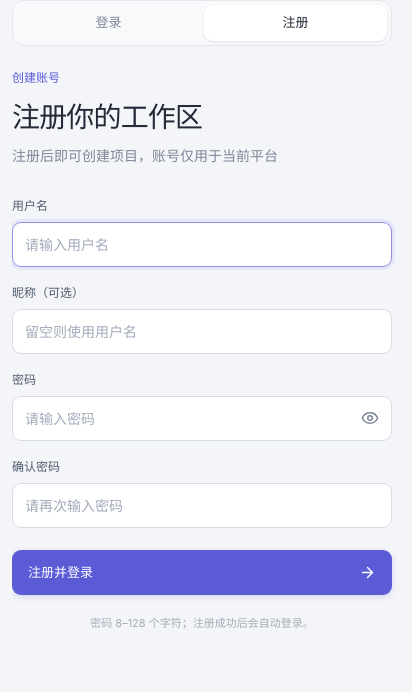
Test: AuthForm › 用户名含空格时前端直接拦下，不发请求
Type "bad name" into the field with id "username".
click(202, 244); type("bad name")  # box [12,222,392,267]
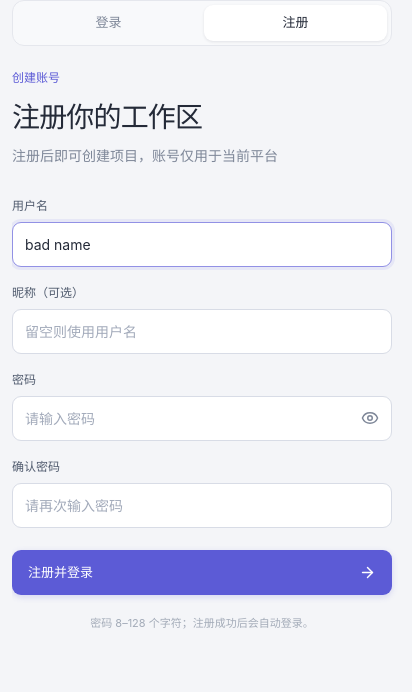
Type "password123" into the password field labelled "密码".
click(202, 418); type("password123")  # box [12,396,392,441]
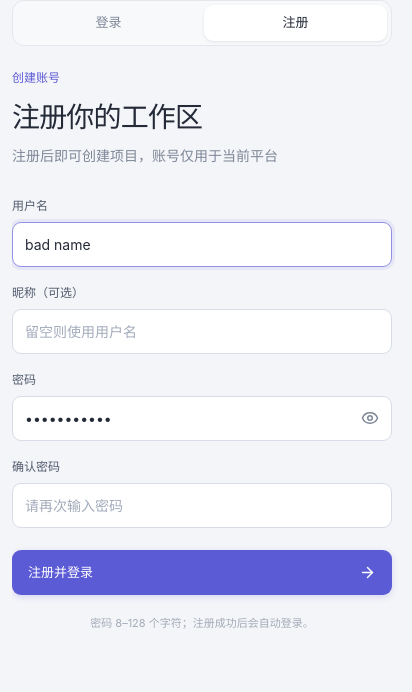
Type "password123" into the password field with id "confirm-password".
click(202, 506); type("password123")  # box [12,483,392,528]
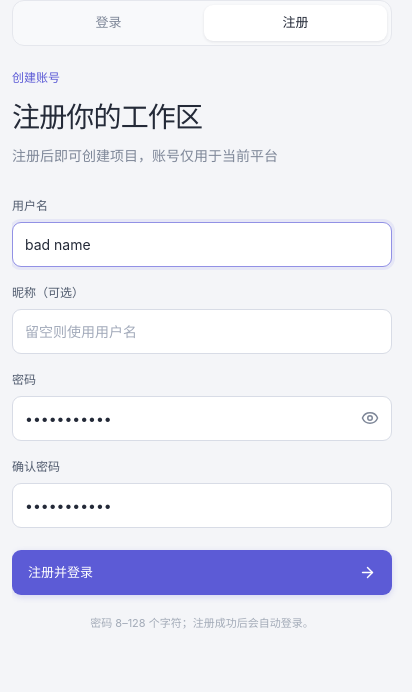
Submit the form
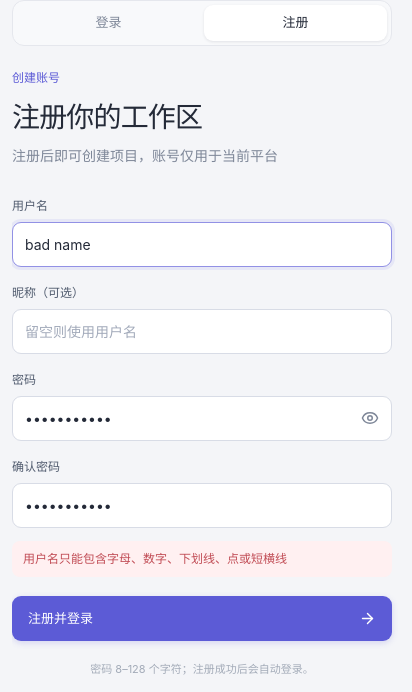
Expected: the message "用户名只能包含字母、数字、下划线、点或短横线" is shown, [12,541,392,577]
